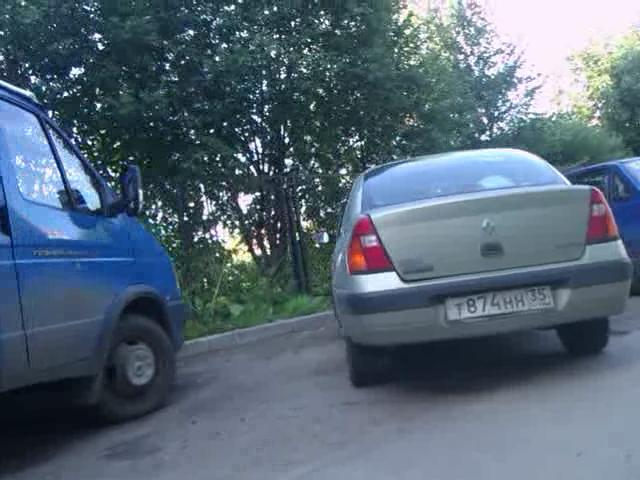car license plate: (445, 279, 556, 326)
